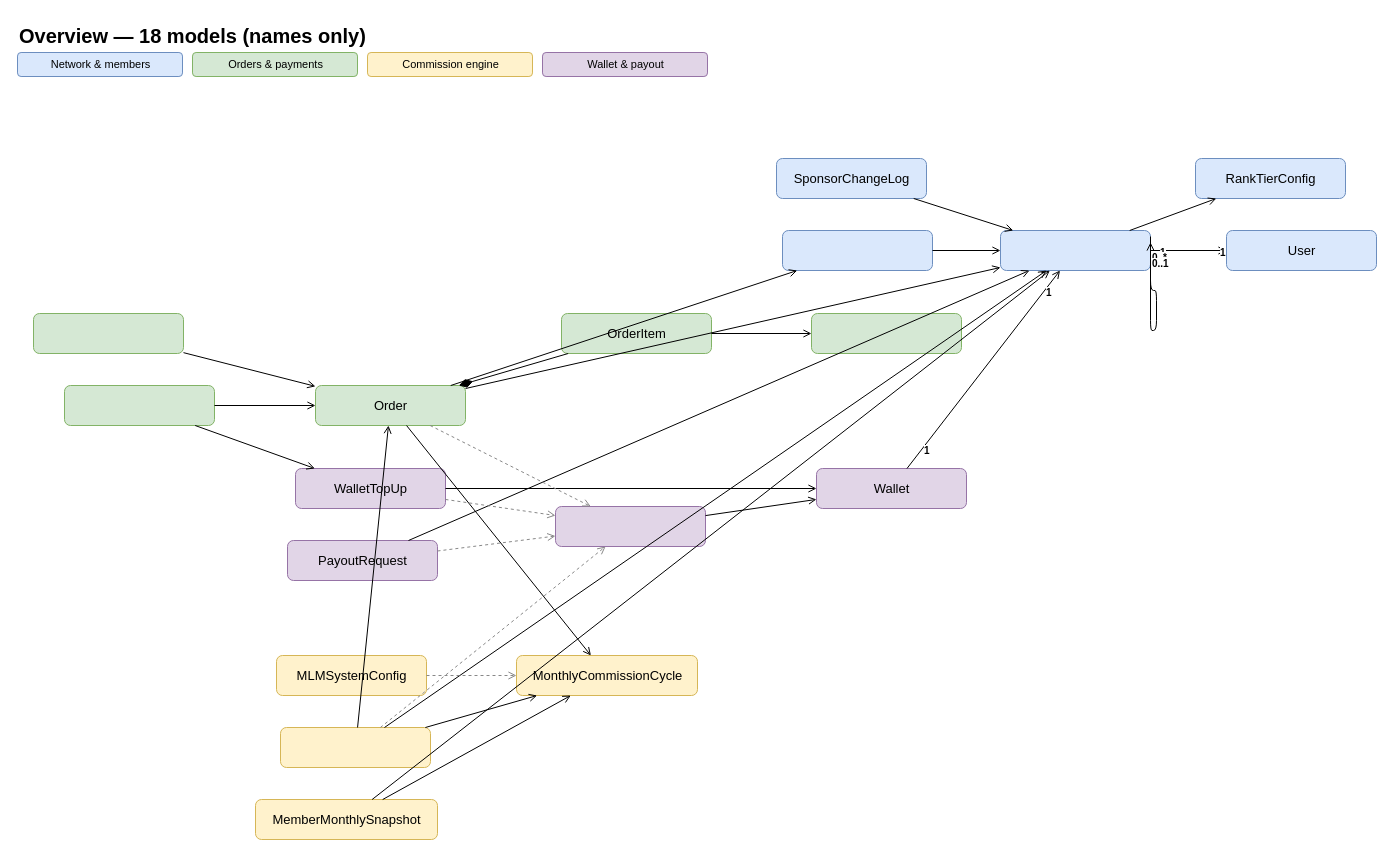
This 1394x857 diagram has some shape labels left out. Here are the shapes that lost their labels. From the top down, the centre of each, then its label:
(857,250): CustomerContact
(1075,250): MemberProfile
(108,333): OrderStatusHistory
(886,333): Product
(139,405): Payment
(630,526): LedgerEntry
(355,747): CommissionEntry
